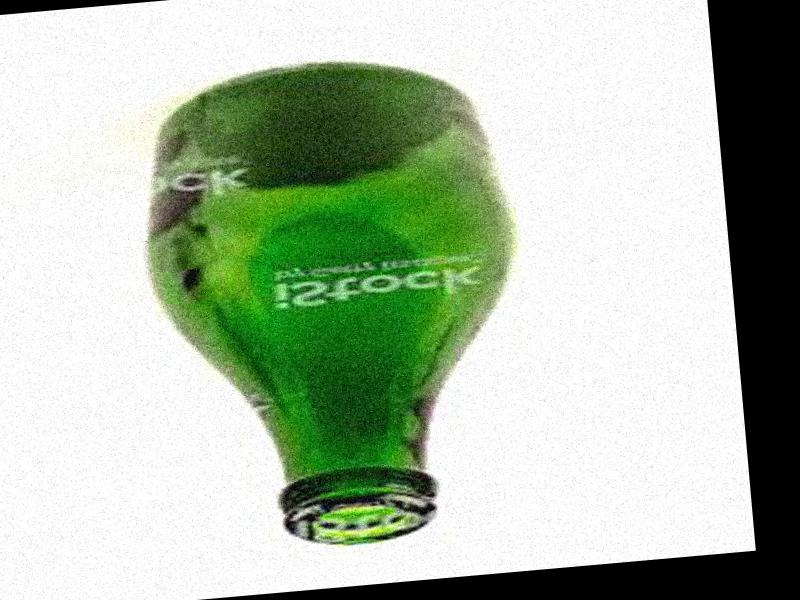Beer: (129, 47, 540, 562)
